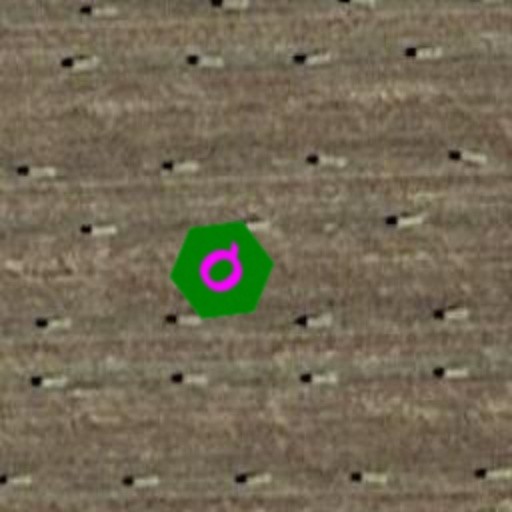hexagon: (146, 194, 298, 346)
